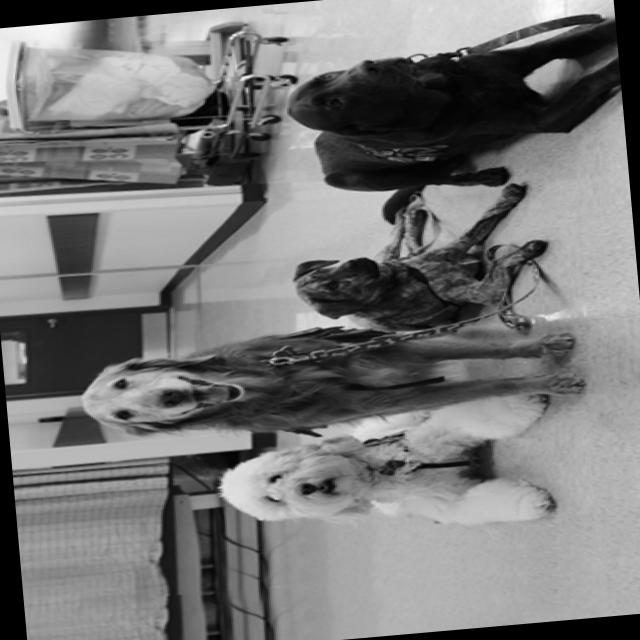laying down: (274, 8, 630, 225), (209, 390, 561, 550), (278, 177, 562, 344)
